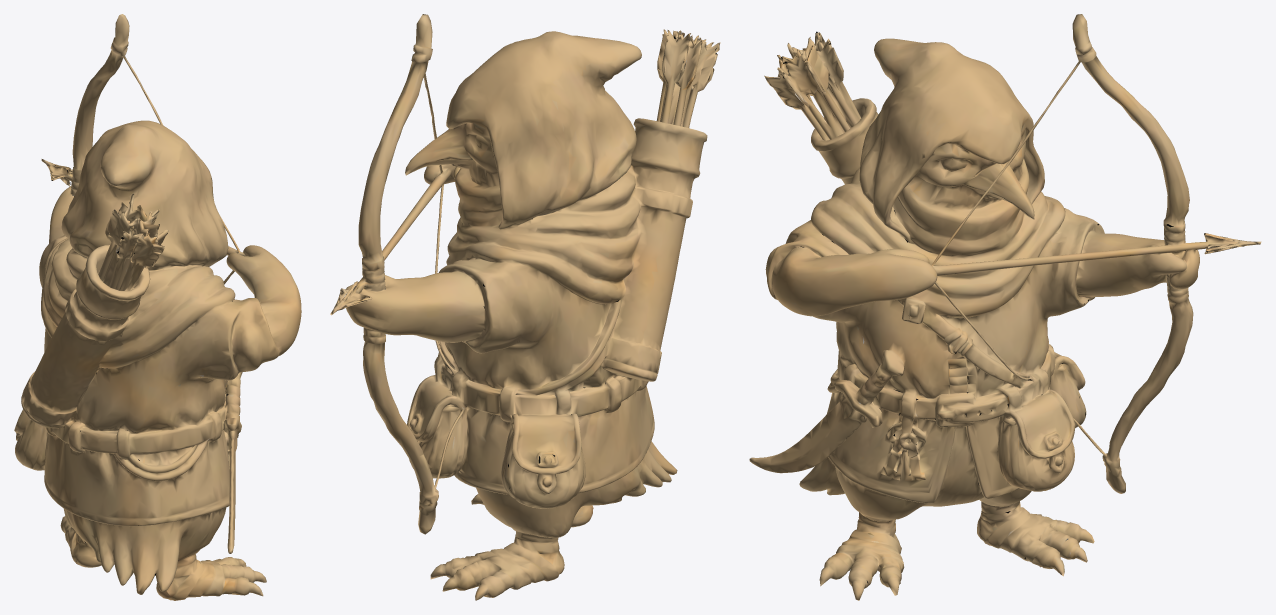
The model's file is penguin-web.glb.
3 views of the same model, side by side, from view 1: azimuth 30°, elevation 25°; view 2: azimuth 150°, elevation 25°; view 3: azimuth 270°, elevation 25° (orthographic). The views are drawn at different scales.
Visible parts, largest first — view 1: tripo_node_1eb87c08; view 2: tripo_node_1eb87c08; view 3: tripo_node_1eb87c08.
Boxes of the visible parts, x1,y1,x2,y2 form: tripo_node_1eb87c08: [14, 14, 301, 600]; tripo_node_1eb87c08: [330, 14, 720, 600]; tripo_node_1eb87c08: [749, 14, 1261, 600].
Bounding box in the file's own units: 0.4496 × 0.9795 × 0.8078.
1 material, 1 textured.
